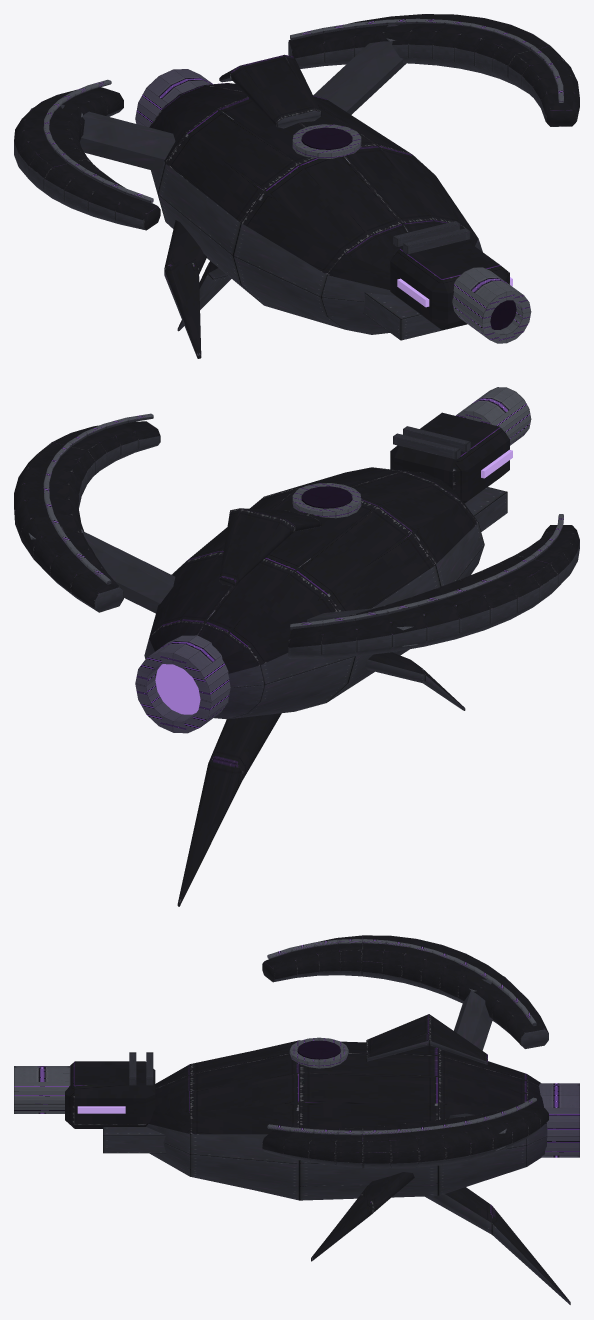
The model's file is pioneer-eris-l05-laser.glb.
3 renders of one model, top to bottom at view 1: azimuth 30°, elevation 25°; view 2: azimuth 150°, elevation 25°; view 3: azimuth 270°, elevation 25°, orthographic. The views are drawn at different scales.
Visible parts, largest first — view 1: Drone; view 2: Drone; view 3: Drone.
Boxes of the visible parts, x1,y1,x2,y2 form: Drone: (14,14,579,358); Drone: (14,387,579,906); Drone: (14,935,579,1304).
Size of the model in its own units: 1.28 by 0.791 by 1.44.
Materials: 3 (3 with a texture image).
